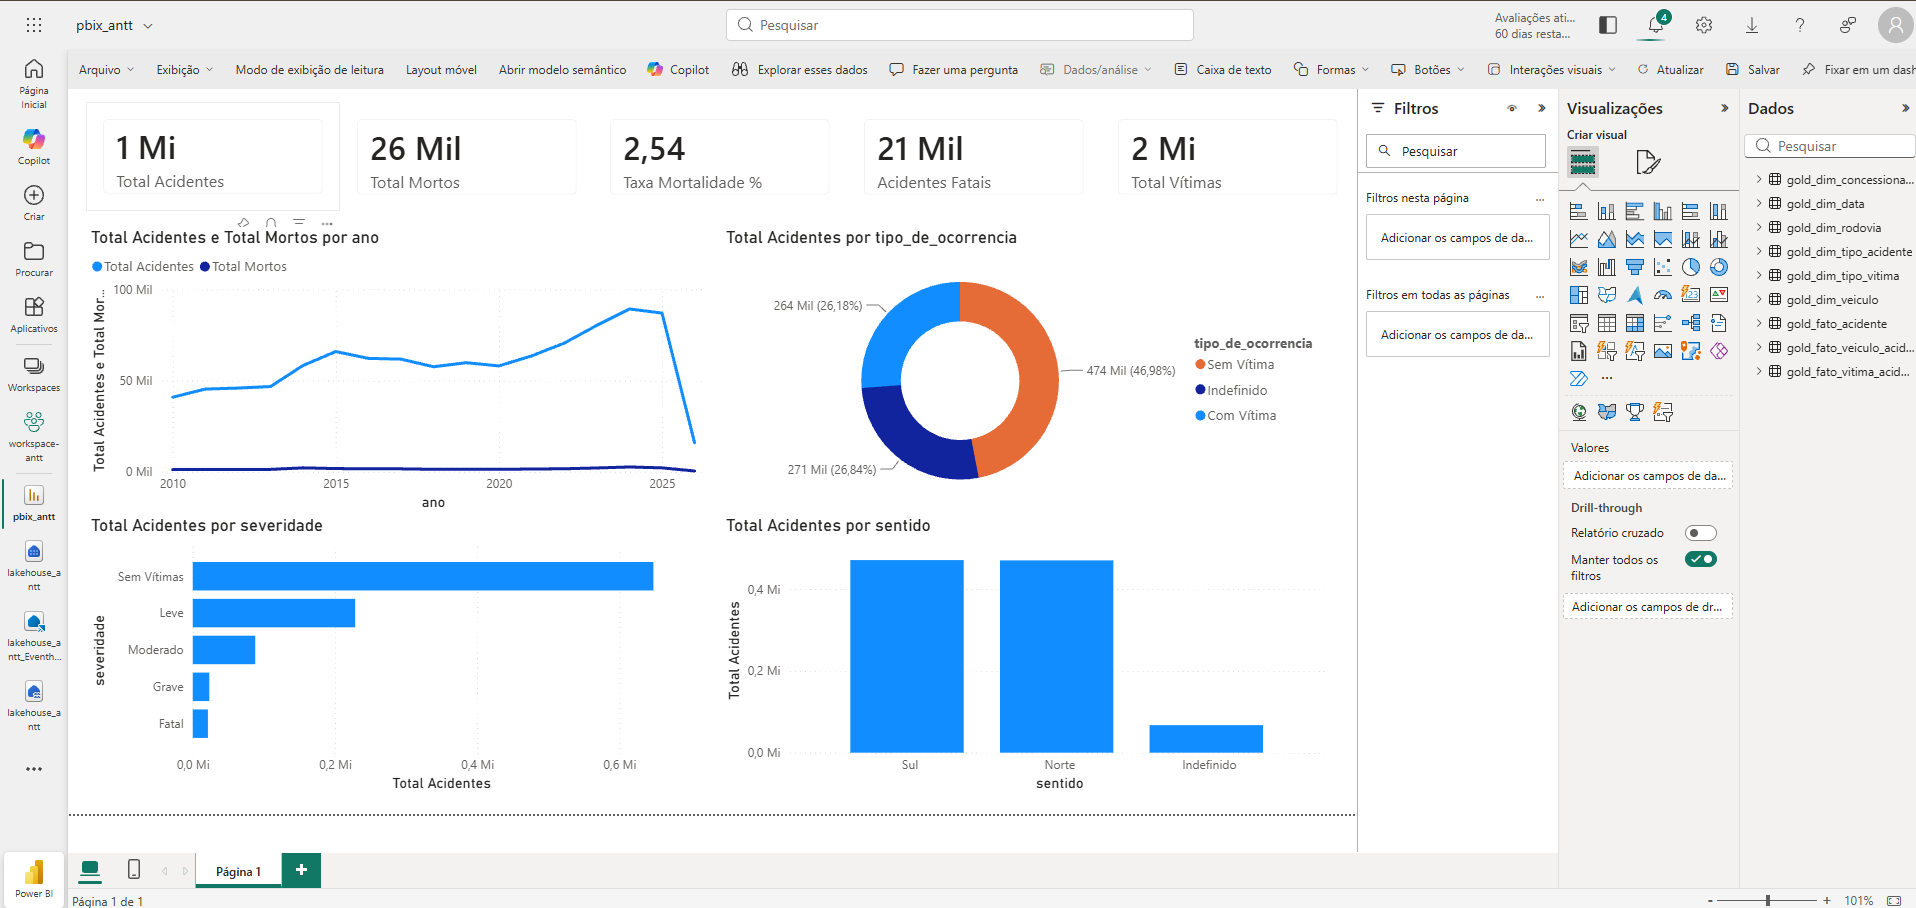

Layout of this report page (visuals, bound fields, positions):
{"tool":"powerbi","page":{"name":"Página 1","canvas":[1280,720],"ordinal":0},"visuals":[{"type":"cardVisual","fields":{"Data":["gold_fato_acidente.Total Acidentes"]},"box":[17.6,12.4,252.1,108.9],"z":0},{"type":"cardVisual","fields":{"Data":["gold_fato_acidente.Total Acidentes"]},"box":[269.7,9.3,252.1,110],"z":1000},{"type":"cardVisual","fields":{"Data":["gold_fato_acidente.Total Mortos"]},"box":[269.7,12.4,252.1,110],"z":2000},{"type":"cardVisual","fields":{"Data":["gold_fato_acidente.Acidentes Fatais"]},"box":[773.8,12.4,252.1,110],"z":3000},{"type":"cardVisual","fields":{"Data":["gold_fato_acidente.Taxa Mortalidade %"]},"box":[521.8,12.4,252.1,110],"z":4000},{"type":"cardVisual","fields":{"Data":["gold_fato_acidente.Total Vítimas"]},"box":[1025.9,12.4,252.1,110],"z":5000},{"type":"lineChart","fields":{"Category":["gold_dim_data.ano"],"Y":["gold_fato_acidente.Total Acidentes","gold_fato_acidente.Total Mortos"]},"box":[17.6,136.9,622.4,286.3],"z":6000},{"type":"clusteredBarChart","fields":{"Category":["gold_fato_acidente.severidade"],"Y":["gold_fato_acidente.Total Acidentes"]},"box":[17.6,423.2,622.4,279],"z":6001},{"type":"donutChart","fields":{"Category":["gold_fato_acidente.tipo_de_ocorrencia"],"Y":["gold_fato_acidente.Total Acidentes"]},"box":[648.3,136.9,608.9,286.3],"z":6002},{"type":"clusteredColumnChart","fields":{"Category":["gold_fato_acidente.sentido"],"Y":["gold_fato_acidente.Total Acidentes"]},"box":[648.3,423.2,608.9,279],"z":6003}]}

Visuals, with their boxes on the page's 1280x720 design canvas (x1, y1, x2, y2). These are canvas units, not pixel positions in the 1916x908 screenshot, which may show the page scaled, cropped or inside an application window:
cardVisual - gold_fato_acidente.Total Acidentes: box=[18, 12, 270, 121]
cardVisual - gold_fato_acidente.Total Acidentes: box=[270, 9, 522, 119]
cardVisual - gold_fato_acidente.Total Mortos: box=[270, 12, 522, 122]
cardVisual - gold_fato_acidente.Acidentes Fatais: box=[774, 12, 1026, 122]
cardVisual - gold_fato_acidente.Taxa Mortalidade %: box=[522, 12, 774, 122]
cardVisual - gold_fato_acidente.Total Vítimas: box=[1026, 12, 1278, 122]
lineChart - gold_dim_data.ano x gold_fato_acidente.Total Acidentes: box=[18, 137, 640, 423]
clusteredBarChart - gold_fato_acidente.severidade x gold_fato_acidente.Total Acidentes: box=[18, 423, 640, 702]
donutChart - gold_fato_acidente.tipo_de_ocorrencia x gold_fato_acidente.Total Acidentes: box=[648, 137, 1257, 423]
clusteredColumnChart - gold_fato_acidente.sentido x gold_fato_acidente.Total Acidentes: box=[648, 423, 1257, 702]
